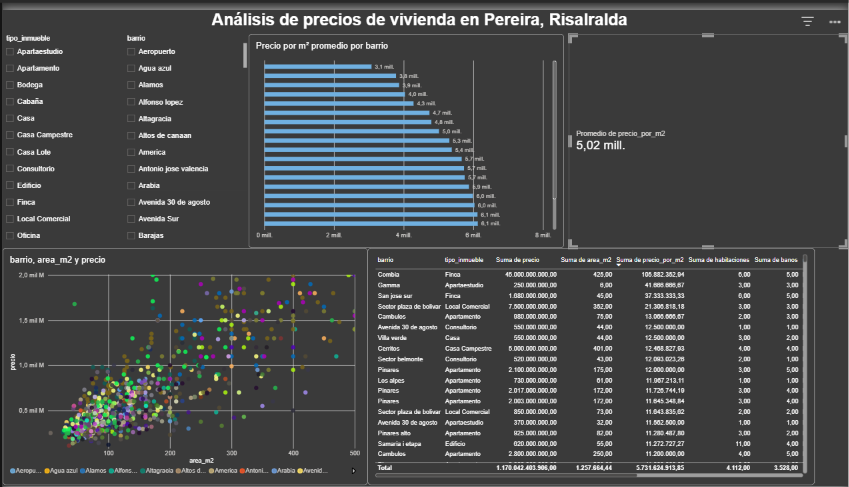

The page's visual inventory and layout, read from the dashboard file:
{"tool":"powerbi","page":{"name":"Página 1","canvas":[1920,1080],"ordinal":0},"visuals":[{"type":"slicer","fields":{"Values":["dataset_limpio.tipo_inmueble"]},"box":[0,54.5,280,486],"z":0},{"type":"slicer","fields":{"Values":["dataset_limpio.barrio"]},"box":[274.8,54.5,280,486],"z":1000},{"type":"clusteredBarChart","title":"Precio por m² promedio por barrio","fields":{"Category":["resumen_por_barrio.barrio"],"Y":["Avg(resumen_por_barrio.precio_m2_promedio)"]},"box":[558.7,54.5,716,486],"z":2000},{"type":"tableEx","fields":{"Values":["dataset_limpio.barrio","dataset_limpio.tipo_inmueble","Sum(dataset_limpio.precio)","Sum(dataset_limpio.area_m2)","Sum(dataset_limpio.precio_por_m2)","Sum(dataset_limpio.habitaciones)","Sum(dataset_limpio.banos)","dataset_limpio.url_aviso"]},"box":[829,540.6,1015.3,538.3],"z":3000},{"type":"cardVisual","fields":{"Data":["Avg(dataset_limpio.precio_por_m2)"]},"box":[1285.6,54.5,634,486],"z":4000},{"type":"scatterChart","fields":{"Series":["dataset_limpio.barrio"],"X":["dataset_limpio.area_m2"],"Y":["dataset_limpio.precio"]},"box":[0,540.6,829,538.3],"z":5000},{"type":"textbox","box":[100,100,300,300],"z":5001},{"type":"textbox","box":[100,100,300,300],"z":5002},{"type":"textbox","box":[100,100,300,300],"z":5003},{"type":"textbox","title":"Análisis de precios de vivienda en Pereira, Risalralda","box":[554.2,0,1246.9,54.5],"z":5004}]}

Visuals, with their boxes in screenshot pixels (x1, y1, x2, y2), scaled from the page's 1920x1080 canvas onto the 849x487 screenshot:
slicer - dataset_limpio.tipo_inmueble: bbox(0, 25, 124, 244)
slicer - dataset_limpio.barrio: bbox(122, 25, 245, 244)
"Precio por m² promedio por barrio" clusteredBarChart: bbox(247, 25, 564, 244)
tableEx - dataset_limpio.barrio x dataset_limpio.tipo_inmueble: bbox(367, 244, 816, 486)
cardVisual - Avg(dataset_limpio.precio_por_m2): bbox(568, 25, 848, 244)
scatterChart - dataset_limpio.barrio x dataset_limpio.area_m2: bbox(0, 244, 367, 486)
textbox: bbox(44, 45, 177, 180)
textbox: bbox(44, 45, 177, 180)
textbox: bbox(44, 45, 177, 180)
"Análisis de precios de vivienda en Pereira, Risalralda" textbox: bbox(245, 0, 796, 25)
